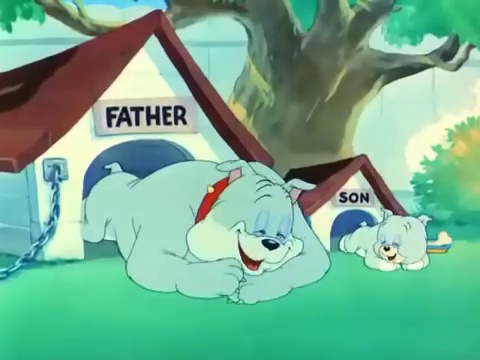spike: (185, 157, 317, 279)
